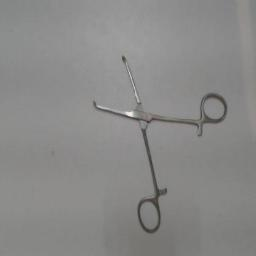Allis Tissue Forceps: (86, 48, 232, 238)
